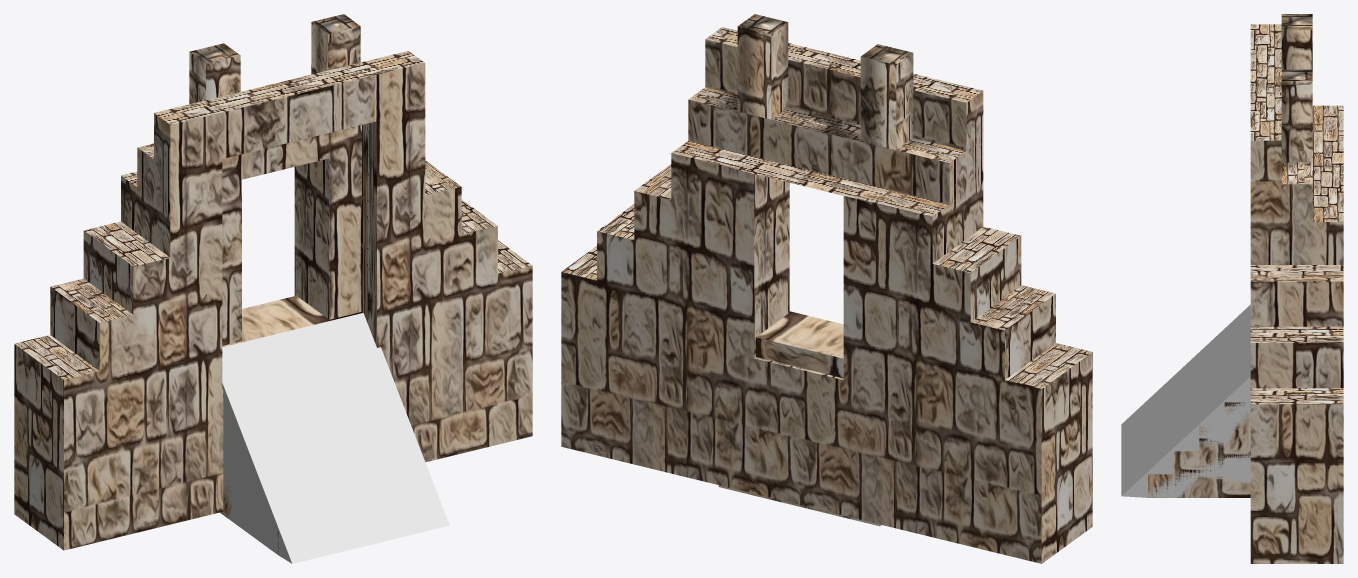
File: puertainca 2.fbx
The picture shows the model from 3 angles, left to right: view 1: azimuth 30°, elevation 25°; view 2: azimuth 150°, elevation 25°; view 3: azimuth 270°, elevation 25°; orthographic projection. The views are drawn at different scales.
Parts seen in each view (by area): view 1: Main.001, Rampa.001, Escalera.001; view 2: Main.001, Escalera.001; view 3: Main.001, Rampa.001, Escalera.001.
Part boxes in pixels (bbox=[...]): Main.001: bbox=[14, 14, 532, 550]; Rampa.001: bbox=[222, 313, 449, 563]; Escalera.001: bbox=[220, 295, 362, 552]; Main.001: bbox=[561, 14, 1092, 563]; Escalera.001: bbox=[718, 311, 881, 526]; Main.001: bbox=[1250, 14, 1343, 563]; Rampa.001: bbox=[1121, 305, 1250, 497]; Escalera.001: bbox=[1148, 378, 1250, 497].
Size of the model in its own units: 1664 by 1490 by 729.
